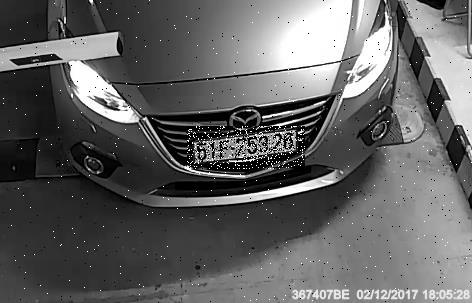License-plate: (188, 128, 306, 171)
